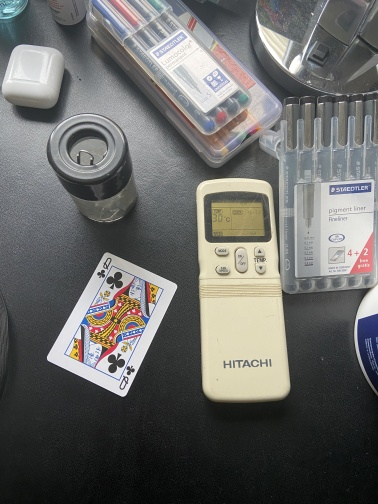queen: (45, 250, 180, 399)
